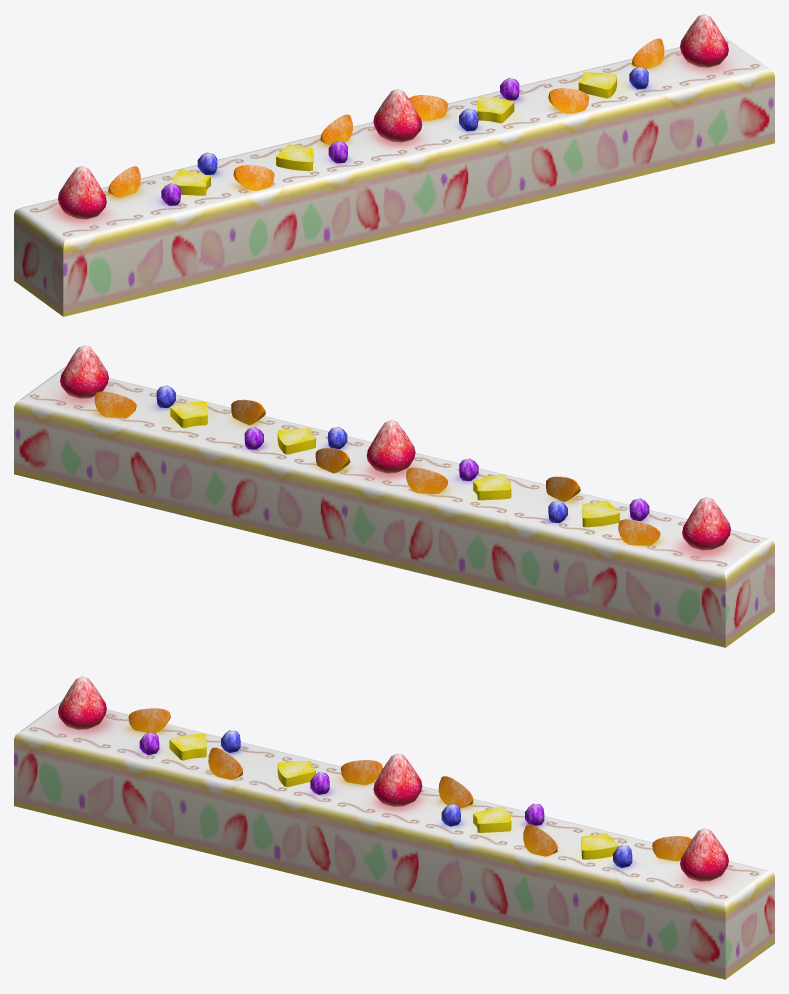
Rendered from Partition.fbx.
3 views of the same model, one above another, from view 1: azimuth 30°, elevation 25°; view 2: azimuth 150°, elevation 25°; view 3: azimuth 330°, elevation 25° (orthographic).
Visible parts, largest first — view 1: Partition; view 2: Partition; view 3: Partition.
Boxes of the visible parts, x1,y1,x2,y2 form: Partition: [14, 14, 774, 316]; Partition: [14, 345, 774, 647]; Partition: [14, 676, 774, 979].
Size of the model in its own units: 6.79 by 1.12 by 0.8176.
